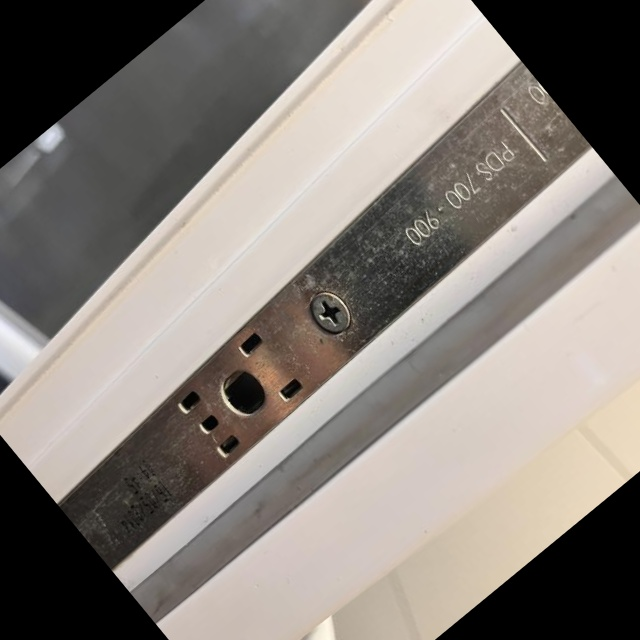phillips: (301, 283, 361, 343)
